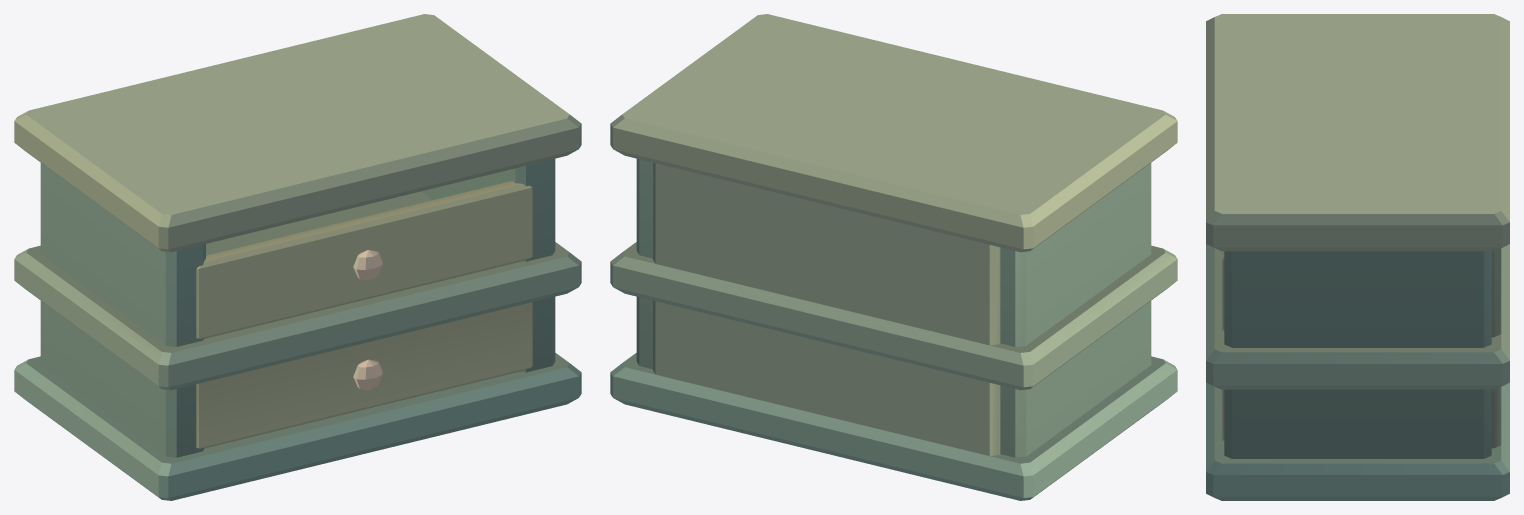
Rendered from furniture_perlmuttkasten.glb.
3 renders of one model, left to right at view 1: azimuth 30°, elevation 25°; view 2: azimuth 150°, elevation 25°; view 3: azimuth 270°, elevation 25°, orthographic.
Parts seen in each view (by area): view 1: furniture_perlmuttkasten; view 2: furniture_perlmuttkasten; view 3: furniture_perlmuttkasten.
Boxes of the visible parts, x1=… form: furniture_perlmuttkasten: x1=14, y1=14, x2=581, y2=500; furniture_perlmuttkasten: x1=610, y1=14, x2=1177, y2=500; furniture_perlmuttkasten: x1=1206, y1=14, x2=1509, y2=500.
Bounding box in the file's own units: 1.21 × 0.789 × 0.75.
